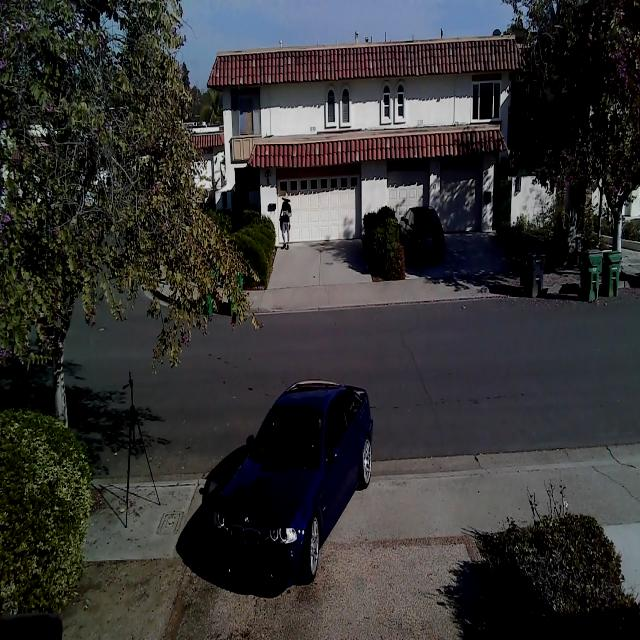Carbeetle: (201, 374, 379, 613)
Civilian: (399, 205, 445, 263)
